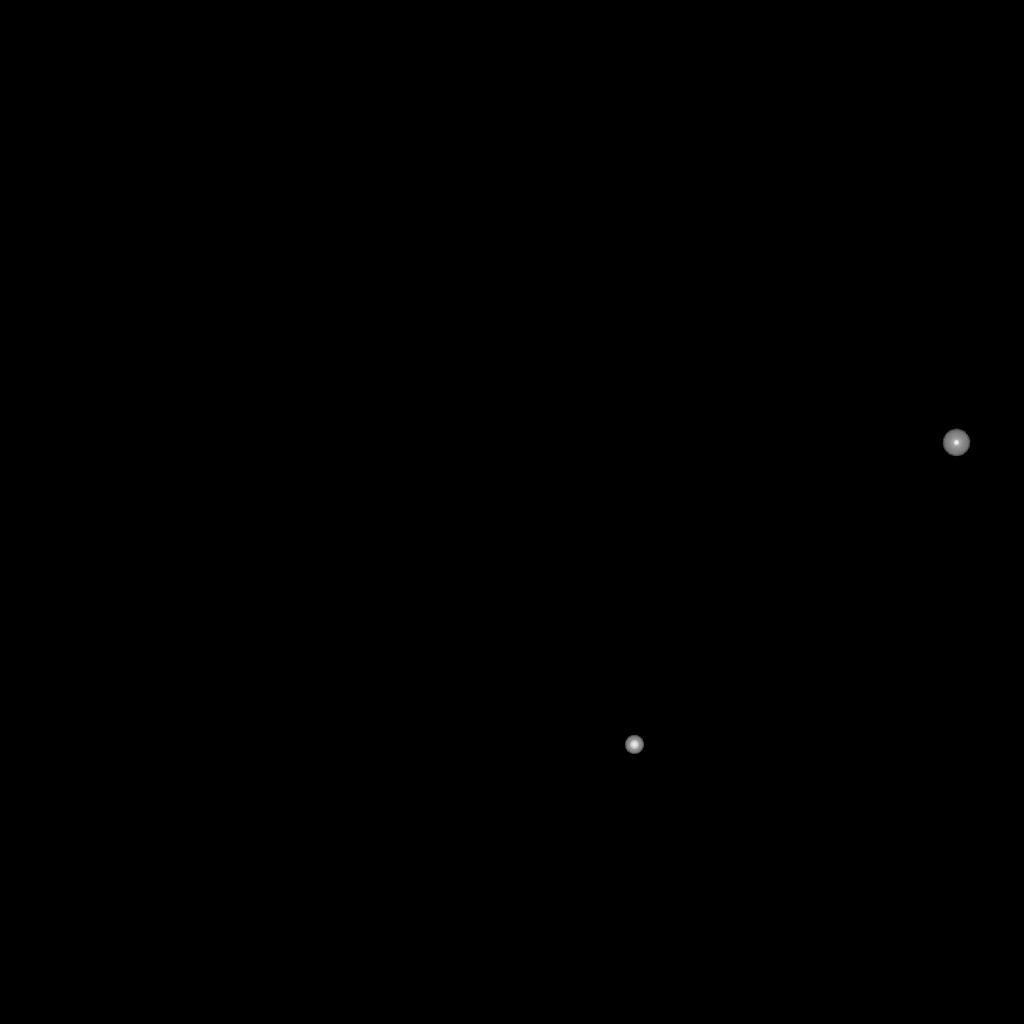depth:-10: (942, 429, 970, 457)
depth:-20: (625, 736, 643, 754)
